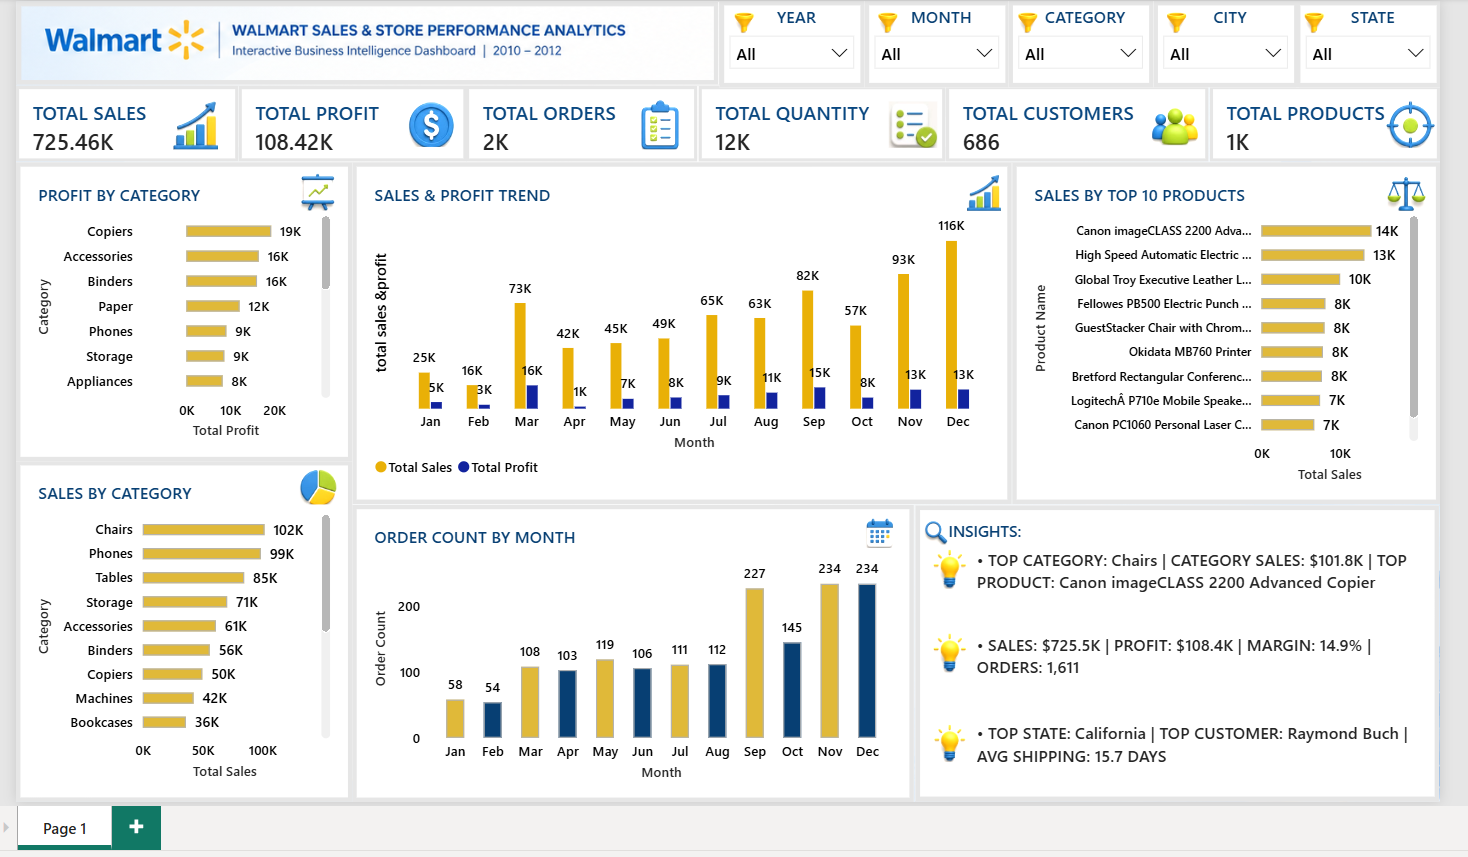

Layout of this report page (visuals, bound fields, positions):
{"tool":"powerbi","page":{"name":"Page 1","canvas":[1280,720],"ordinal":0},"visuals":[{"type":"shape","box":[807.5,452.5,472.5,267.5],"z":0},{"type":"cardVisual","fields":{"Data":["Walmart_Sales.Total Sales"]},"box":[0,76.2,200,68.8],"z":1000},{"type":"cardVisual","fields":{"Data":["Walmart_Sales.Total Profit"]},"box":[200,76.2,205,68.8],"z":2000},{"type":"cardVisual","fields":{"Data":["Walmart_Sales.Total Quantity"]},"box":[613.8,76.2,222.5,68.8],"z":3000},{"type":"cardVisual","fields":{"Data":["Walmart_Sales.Total Orders"]},"box":[405,76.2,208.8,68.8],"z":4000},{"type":"cardVisual","fields":{"Data":["Walmart_Sales.Total Customers"]},"box":[836.2,76.2,236.2,68.8],"z":5000},{"type":"cardVisual","fields":{"Data":["Walmart_Sales.Total Products"]},"box":[1072.5,76.2,207.5,68.8],"z":6000},{"type":"clusteredColumnChart","title":"SALES & PROFIT TREND","fields":{"Category":["DateTable.Month"],"Y":["Walmart_Sales.Total Sales","Walmart_Sales.Total Profit"]},"box":[302.5,145,592.5,307.5],"z":7000},{"type":"clusteredBarChart","title":"SALES BY CATEGORY","fields":{"Y":["Walmart_Sales.Total Sales"],"Category":["Walmart_Sales.Category"]},"box":[0,413.8,302.5,306.2],"z":8000},{"type":"clusteredBarChart","title":"PROFIT BY CATEGORY","fields":{"Category":["Walmart_Sales.Category"],"Y":["Walmart_Sales.Total Profit"]},"box":[0,145,302.5,268.8],"z":9000},{"type":"clusteredBarChart","title":"SALES BY TOP 10 PRODUCTS","fields":{"Y":["Walmart_Sales.Total Sales"],"Category":["Walmart_Sales.Product Name"]},"box":[895,145,385,307.5],"z":10000},{"type":"clusteredColumnChart","title":"ORDER COUNT BY MONTH ","fields":{"Y":["DateTable.Order Count"],"Category":["DateTable.Month"]},"box":[302.5,452.5,505,267.5],"z":11000},{"type":"slicer","title":"YEAR","fields":{"Values":["DateTable.Year"]},"box":[632.5,0,130,77.5],"z":12000},{"type":"slicer","title":"MONTH","fields":{"Values":["DateTable.Month"]},"box":[762.5,0,130,77.5],"z":13000},{"type":"slicer","title":"CATEGORY","fields":{"Values":["Walmart_Sales.Category"]},"box":[892.5,0,130,77.5],"z":14000},{"type":"slicer","title":"CITY","fields":{"Values":["Walmart_Sales.City"]},"box":[1022.5,0,130,77.5],"z":15000},{"type":"slicer","title":"STATE","fields":{"Values":["Walmart_Sales.State"]},"box":[1150,0,130,77.5],"z":16000},{"type":"cardVisual","fields":{"Data":["DateTable.Live Insight 1"]},"box":[851.2,541.2,428.8,90],"z":17000},{"type":"cardVisual","fields":{"Data":["DateTable.Live Insight 2"]},"box":[851.2,462.5,423.8,96.2],"z":18000},{"type":"cardVisual","fields":{"Data":["DateTable.Live Insight 3"]},"box":[851.2,623.8,417.5,86.2],"z":19000},{"type":"shape","box":[0,0,632.5,76.2],"z":20000},{"type":"image","box":[821.2,493.8,35,35],"z":21000},{"type":"image","box":[821.2,568.8,35,35],"z":22000},{"type":"image","box":[821.2,650,35,33.8],"z":23000},{"type":"image","box":[136.2,88.8,51.2,45],"z":24000},{"type":"image","box":[558.8,88.8,40,45],"z":25000},{"type":"image","box":[762.5,462.5,27.5,28.8],"z":26000},{"type":"image","box":[1020,88.8,43.8,45],"z":27000},{"type":"image","box":[351.2,88.8,42.5,45],"z":28000},{"type":"image","box":[783.8,88.8,43.8,45],"z":29000},{"type":"image","box":[1231.2,88.8,43.8,45],"z":30000},{"type":"image","box":[640,8.8,27.5,20],"z":31000},{"type":"image","box":[770,8.8,27.5,20],"z":32000},{"type":"image","box":[895,8.8,27.5,20],"z":33000},{"type":"image","box":[1028.8,8.8,27.5,20],"z":34000},{"type":"image","box":[1152.5,8.8,27.5,20],"z":35000},{"type":"image","box":[851.2,155,37.5,33.8],"z":36000},{"type":"image","box":[252.5,155,37.5,33.8],"z":37000},{"type":"image","box":[252.5,418.8,37.5,33.8],"z":38000},{"type":"image","box":[1231.2,155,37.5,33.8],"z":39000},{"type":"image","box":[816.2,462.5,22.5,28.8],"z":40000},{"type":"textbox","box":[838.8,466.2,300,25],"z":41000}]}

Visuals, with their boxes on the page's 1280x720 design canvas (x1, y1, x2, y2). These are canvas units, not pixel positions in the 1468x857 screenshot, which may show the page scaled, cropped or inside an application window:
shape: crop(808, 452, 1280, 720)
cardVisual - Walmart_Sales.Total Sales: crop(0, 76, 200, 145)
cardVisual - Walmart_Sales.Total Profit: crop(200, 76, 405, 145)
cardVisual - Walmart_Sales.Total Quantity: crop(614, 76, 836, 145)
cardVisual - Walmart_Sales.Total Orders: crop(405, 76, 614, 145)
cardVisual - Walmart_Sales.Total Customers: crop(836, 76, 1072, 145)
cardVisual - Walmart_Sales.Total Products: crop(1072, 76, 1280, 145)
"SALES & PROFIT TREND" clusteredColumnChart: crop(302, 145, 895, 452)
"SALES BY CATEGORY" clusteredBarChart: crop(0, 414, 302, 720)
"PROFIT BY CATEGORY" clusteredBarChart: crop(0, 145, 302, 414)
"SALES BY TOP 10 PRODUCTS" clusteredBarChart: crop(895, 145, 1280, 452)
"ORDER COUNT BY MONTH " clusteredColumnChart: crop(302, 452, 808, 720)
"YEAR" slicer: crop(632, 0, 762, 78)
"MONTH" slicer: crop(762, 0, 892, 78)
"CATEGORY" slicer: crop(892, 0, 1022, 78)
"CITY" slicer: crop(1022, 0, 1152, 78)
"STATE" slicer: crop(1150, 0, 1280, 78)
cardVisual - DateTable.Live Insight 1: crop(851, 541, 1280, 631)
cardVisual - DateTable.Live Insight 2: crop(851, 462, 1275, 559)
cardVisual - DateTable.Live Insight 3: crop(851, 624, 1269, 710)
shape: crop(0, 0, 632, 76)
image: crop(821, 494, 856, 529)
image: crop(821, 569, 856, 604)
image: crop(821, 650, 856, 684)
image: crop(136, 89, 187, 134)
image: crop(559, 89, 599, 134)
image: crop(762, 462, 790, 491)
image: crop(1020, 89, 1064, 134)
image: crop(351, 89, 394, 134)
image: crop(784, 89, 828, 134)
image: crop(1231, 89, 1275, 134)
image: crop(640, 9, 668, 29)
image: crop(770, 9, 798, 29)
image: crop(895, 9, 922, 29)
image: crop(1029, 9, 1056, 29)
image: crop(1152, 9, 1180, 29)
image: crop(851, 155, 889, 189)
image: crop(252, 155, 290, 189)
image: crop(252, 419, 290, 453)
image: crop(1231, 155, 1269, 189)
image: crop(816, 462, 839, 491)
textbox: crop(839, 466, 1139, 491)
